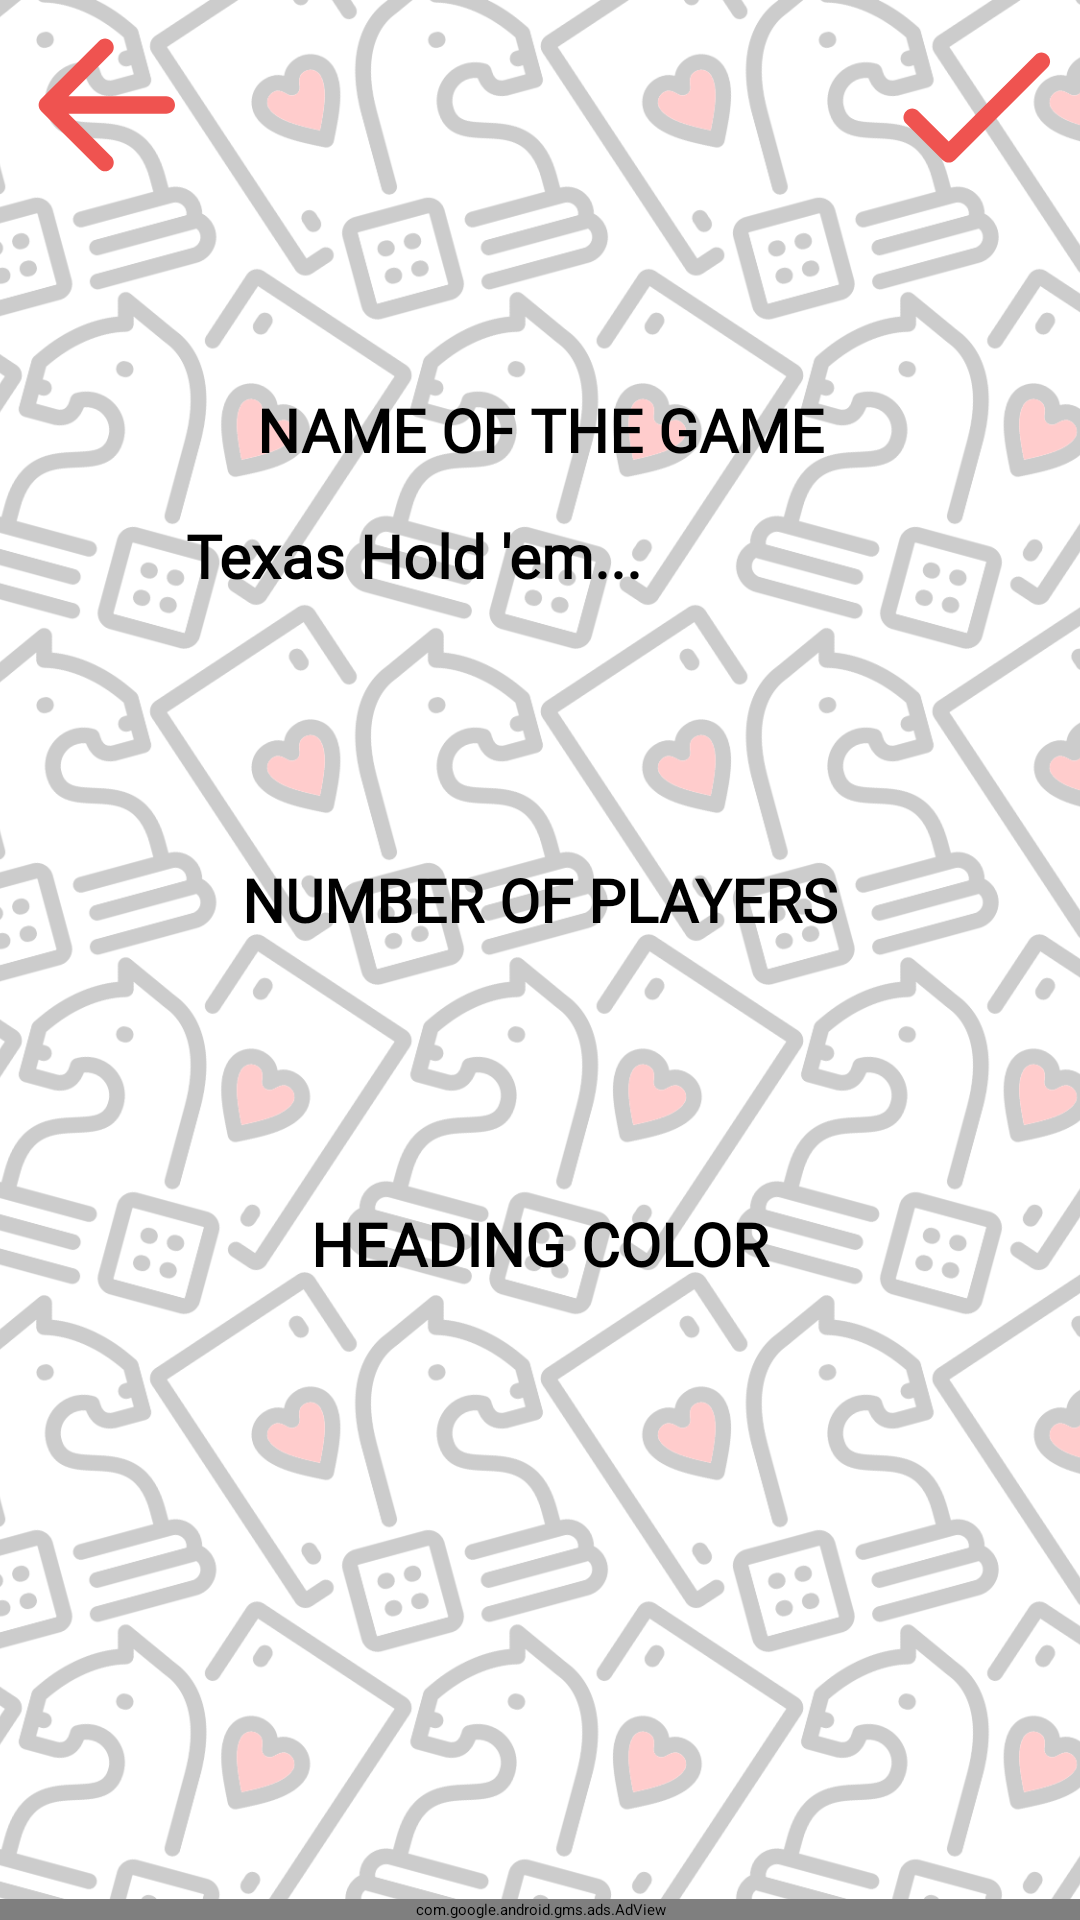

Screen size 1080px×1920px. Icon name, then its center in pixels as point (x, y):
arrow back: point (105, 105)
check: point (975, 105)
